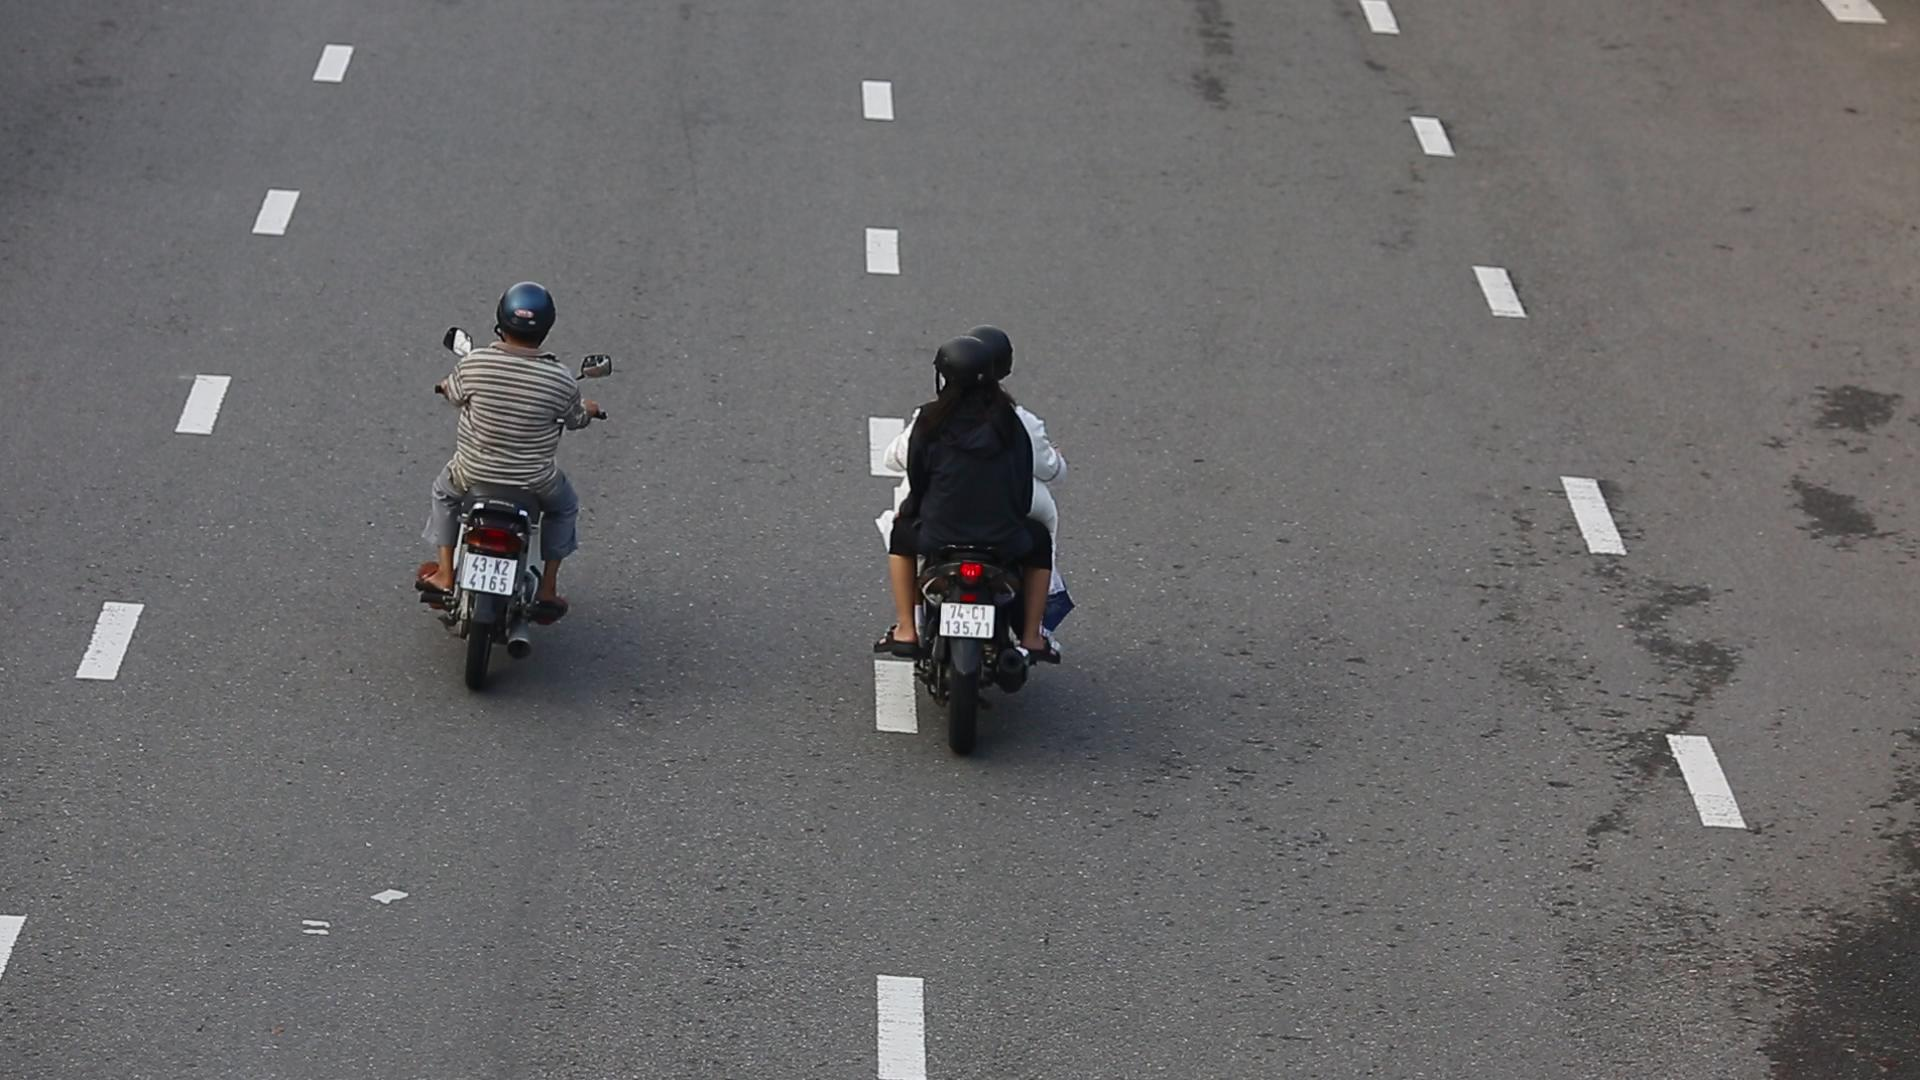motobike: (873, 328, 1079, 762), (410, 278, 605, 698)
